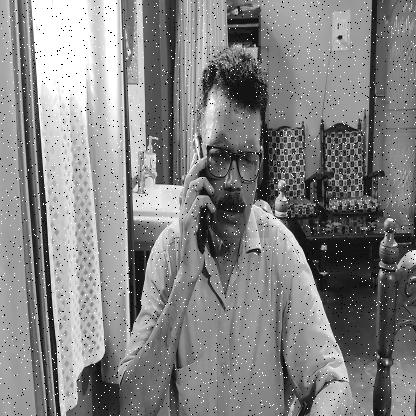Normal: (203, 46, 269, 238)
